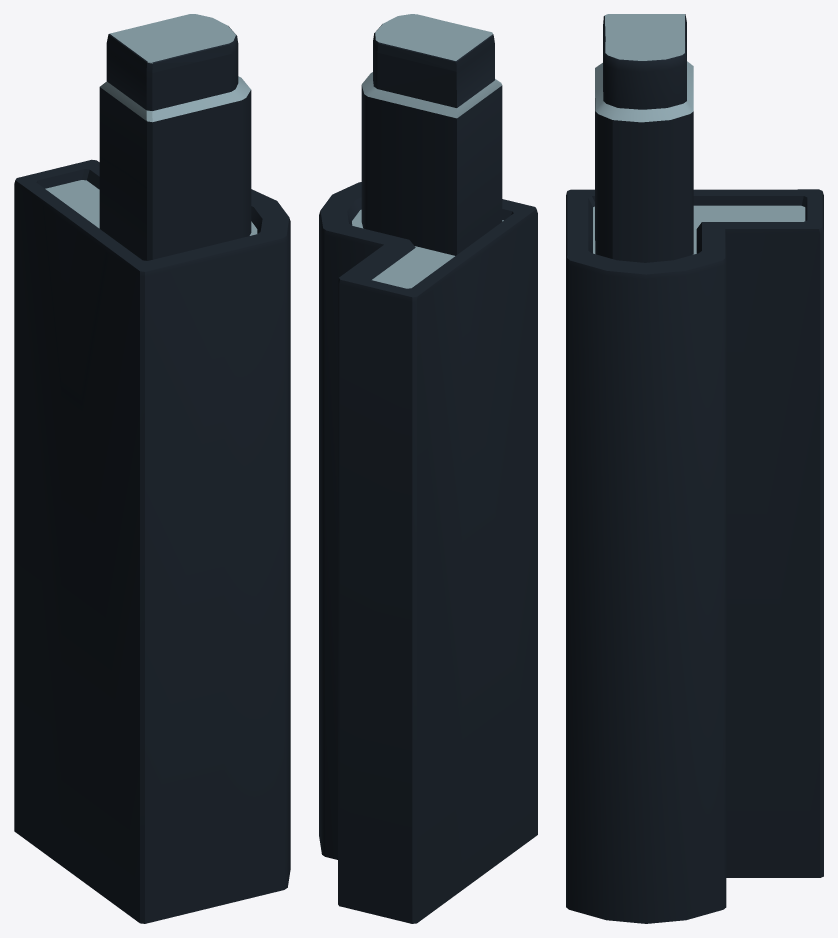
File: Building1.FBX
The picture shows the model from 3 angles, left to right: view 1: azimuth 30°, elevation 25°; view 2: azimuth 150°, elevation 25°; view 3: azimuth 270°, elevation 25°; orthographic projection. The views are drawn at different scales.
Parts seen in each view (by area): view 1: Skyscraper1; view 2: Skyscraper1; view 3: Skyscraper1.
Boxes of the visible parts, box(x1,y1,x2,y2) form: Skyscraper1: box(14, 14, 290, 923); Skyscraper1: box(319, 14, 537, 923); Skyscraper1: box(566, 14, 823, 923).
Bounding box in the file's own units: 14.84 × 67.47 × 18.82.
